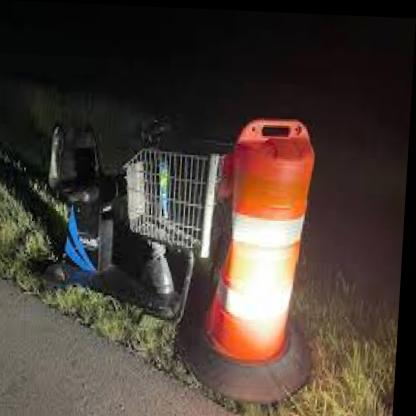obstacle: (218, 139, 318, 361)
